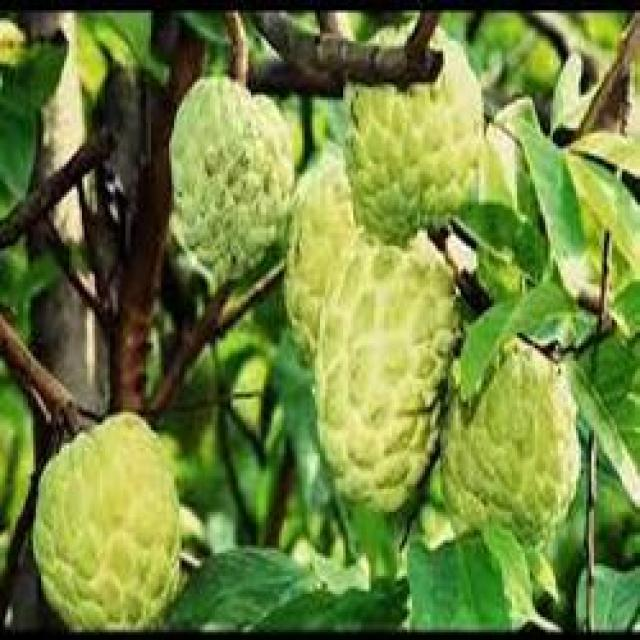apple: (317, 223, 468, 486), (31, 407, 194, 630), (343, 25, 499, 254), (169, 74, 302, 297)
